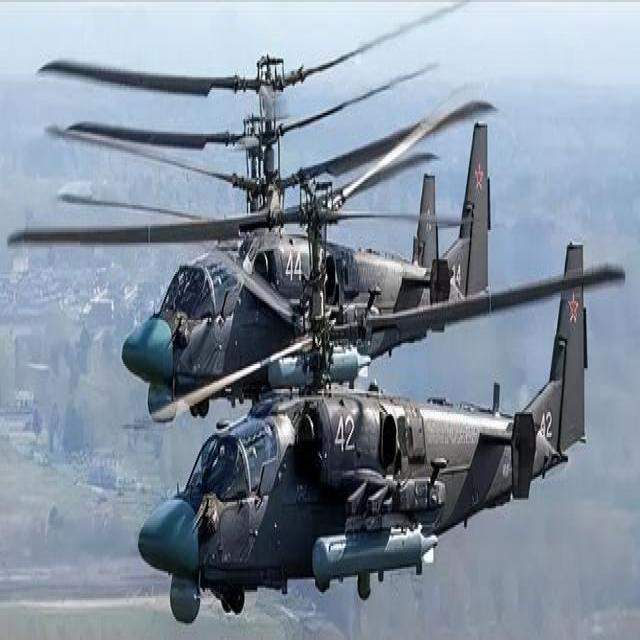MIL_HELO: (0, 155, 596, 625), (45, 48, 496, 422)
